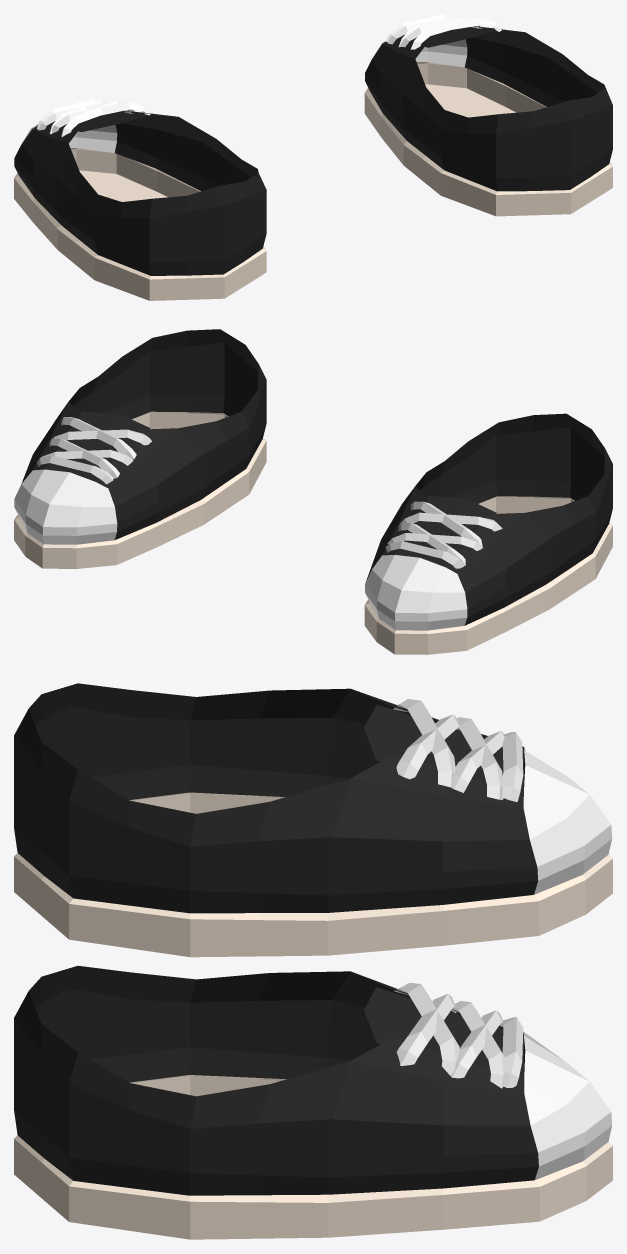
The model's file is sneakersonly.fbx.
The picture shows the model from 3 angles, top to bottom: view 1: azimuth 30°, elevation 25°; view 2: azimuth 150°, elevation 25°; view 3: azimuth 270°, elevation 25°; orthographic projection. The views are drawn at different scales.
Parts seen in each view (by area): view 1: save, save.002, save.001, Cylinder.004, Cylinder.003, Cylinder, Cylinder.001, Cylinder.002; view 2: save, save.002, save.001, Cylinder.004, Cylinder.003, Cylinder, Cylinder.001, Cylinder.002; view 3: save, save.002, save.001, Cylinder.004, Cylinder.003, Cylinder.001, Cylinder, Cylinder.002.
Boxes of the visible parts, x1,y1,x2,y2 form: save: [14, 26, 612, 275]; save.002: [14, 62, 612, 300]; save.001: [22, 39, 467, 152]; Cylinder.004: [61, 17, 501, 136]; Cylinder.003: [50, 17, 482, 134]; Cylinder: [37, 14, 455, 129]; Cylinder.001: [49, 17, 481, 133]; Cylinder.002: [38, 17, 452, 130]; save: [21, 329, 612, 625]; save.002: [14, 411, 612, 654]; save.001: [14, 469, 467, 630]; Cylinder.004: [61, 417, 502, 531]; Cylinder.003: [53, 429, 482, 546]; Cylinder: [37, 455, 463, 568]; Cylinder.001: [49, 438, 482, 550]; Cylinder.002: [41, 449, 465, 565]; save: [14, 683, 538, 1195]; save.002: [14, 792, 612, 1239]; save.001: [523, 748, 612, 1179]; Cylinder.004: [393, 699, 456, 1065]; Cylinder.003: [394, 714, 459, 1077]; Cylinder.001: [450, 717, 503, 1078]; Cylinder: [502, 732, 523, 1087]; Cylinder.002: [451, 731, 504, 1088].
Size of the model in its own units: 72.29 by 15.46 by 44.79.
